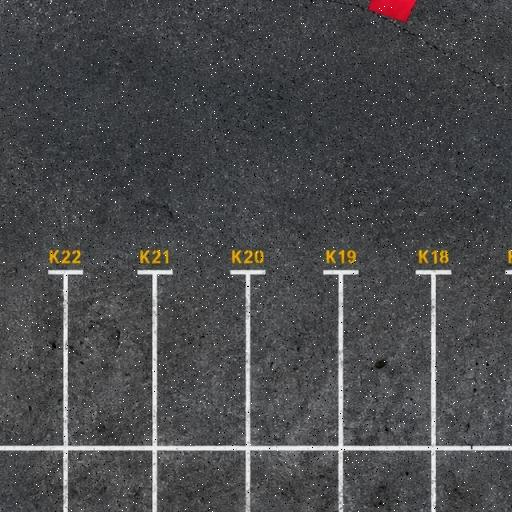RED_SQUARE: (367, 0, 424, 24)
